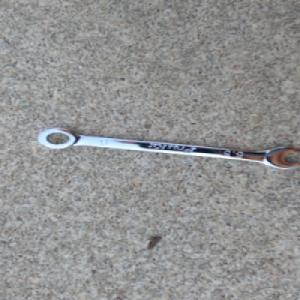Wrench: (33, 127, 300, 171)
